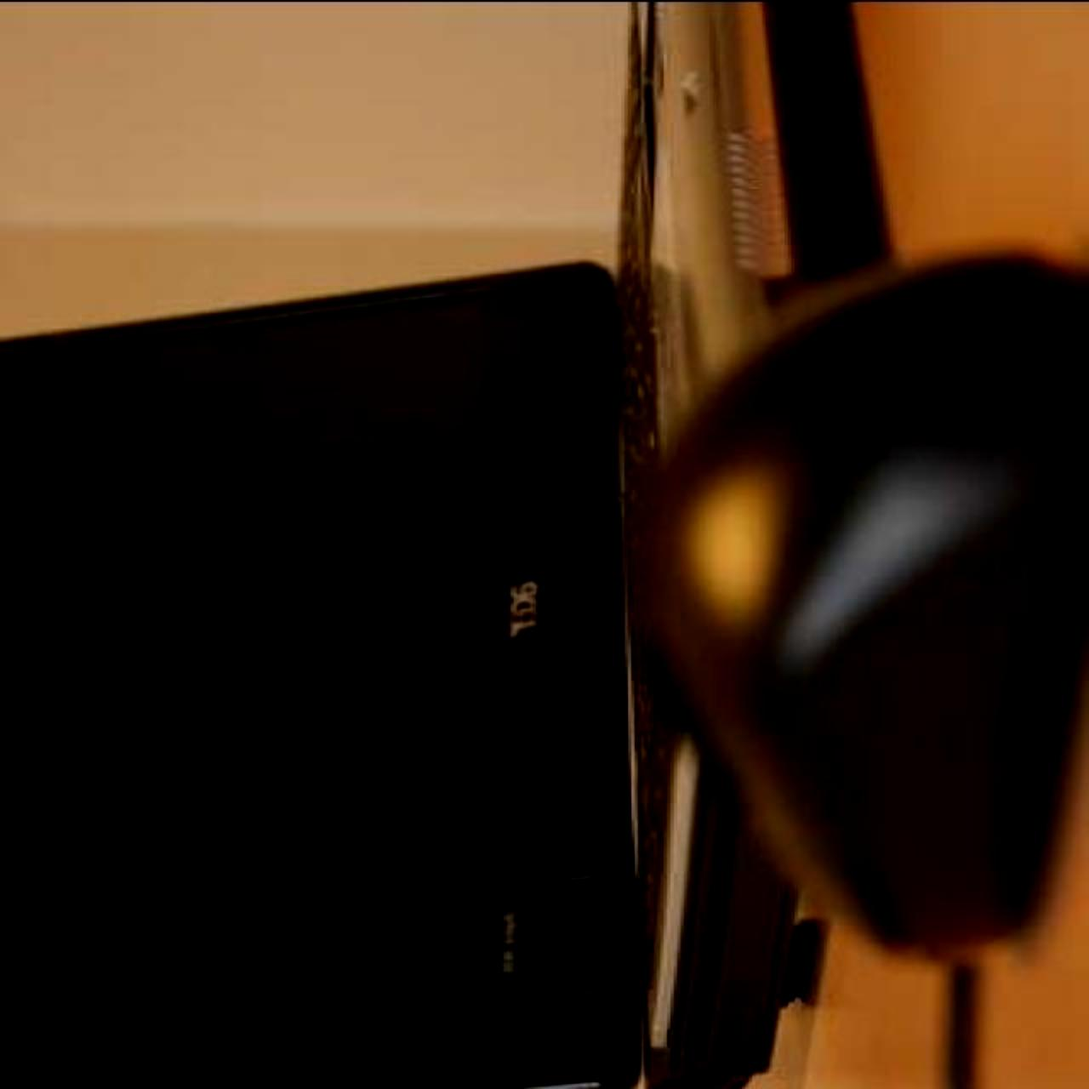laptop: (19, 165, 839, 1050)
